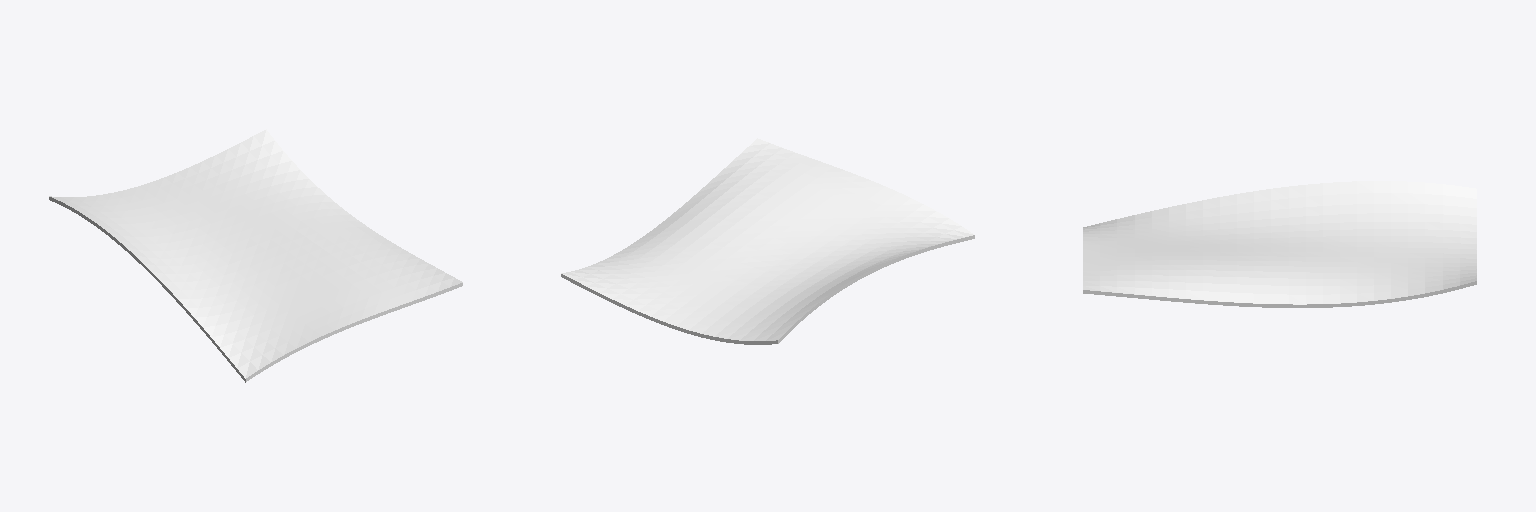
The model's file is medj.obj.
3 views of the same model, side by side, from view 1: azimuth 30°, elevation 25°; view 2: azimuth 150°, elevation 25°; view 3: azimuth 270°, elevation 25° (orthographic).
Visible parts, largest first — view 1: Box001; view 2: Box001; view 3: Box001.
Boxes of the visible parts, box(x1,y1,x2,y2) form: Box001: box(49, 129, 462, 382); Box001: box(561, 138, 974, 344); Box001: box(1083, 181, 1476, 307).
Size of the model in its own units: 2.73 by 0.6761 by 4.28.